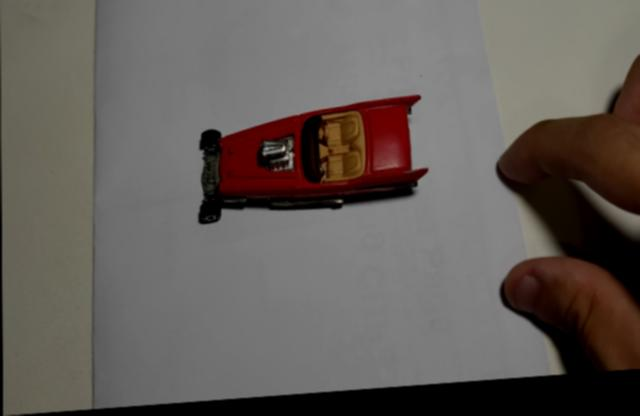03_V8: (197, 101, 429, 229)
